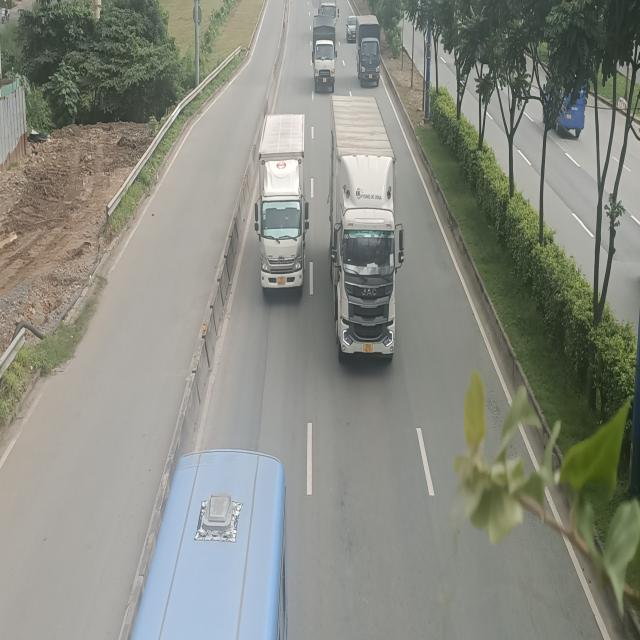car: (346, 14, 356, 41)
container: (329, 93, 405, 360)
truck: (254, 110, 309, 291), (313, 18, 337, 92), (356, 18, 381, 87)
